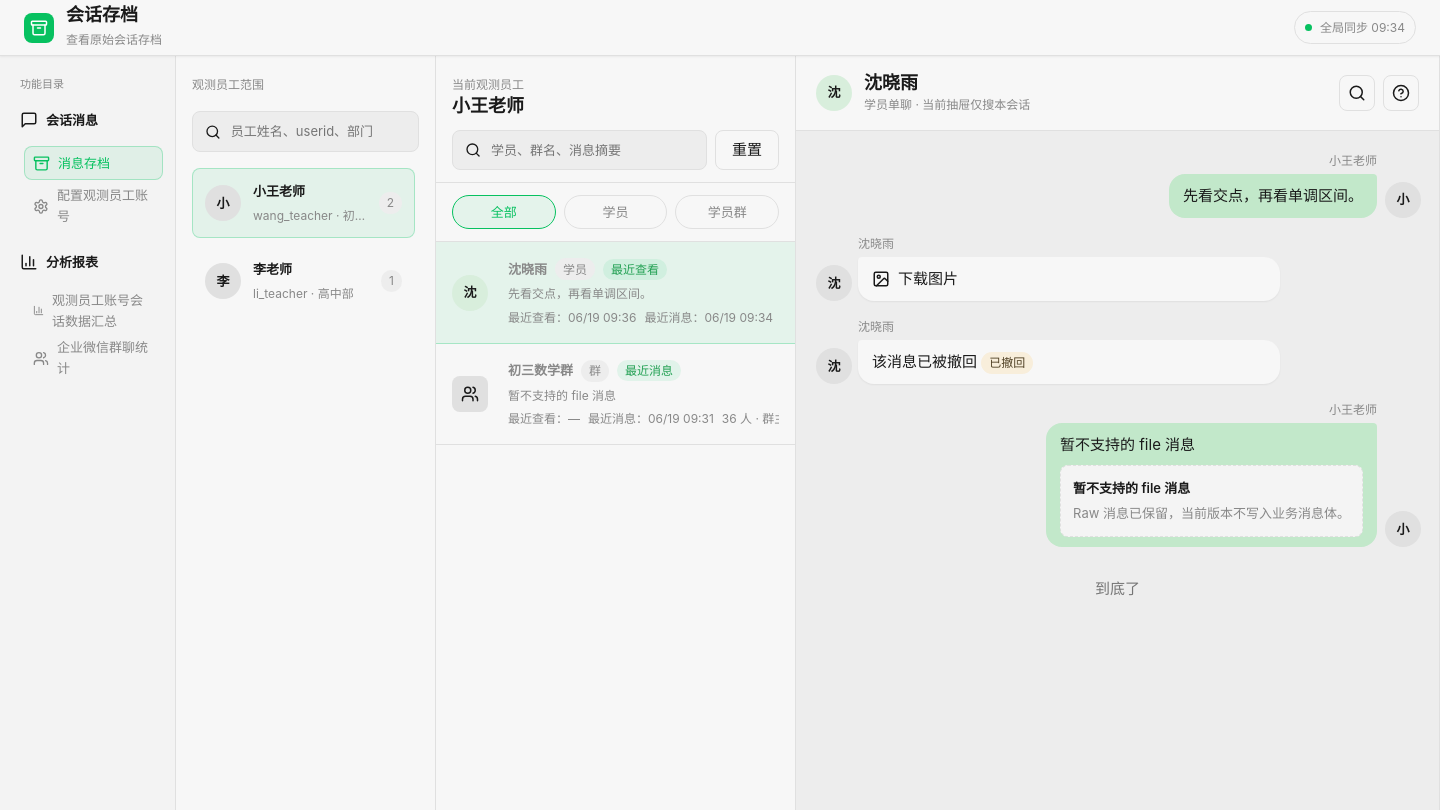
App › opens observation configuration panel
This screenshot has width=1440, height=810.
Click the button "配置观测员工账号".
click(94, 206)  # box [24,184,163,228]
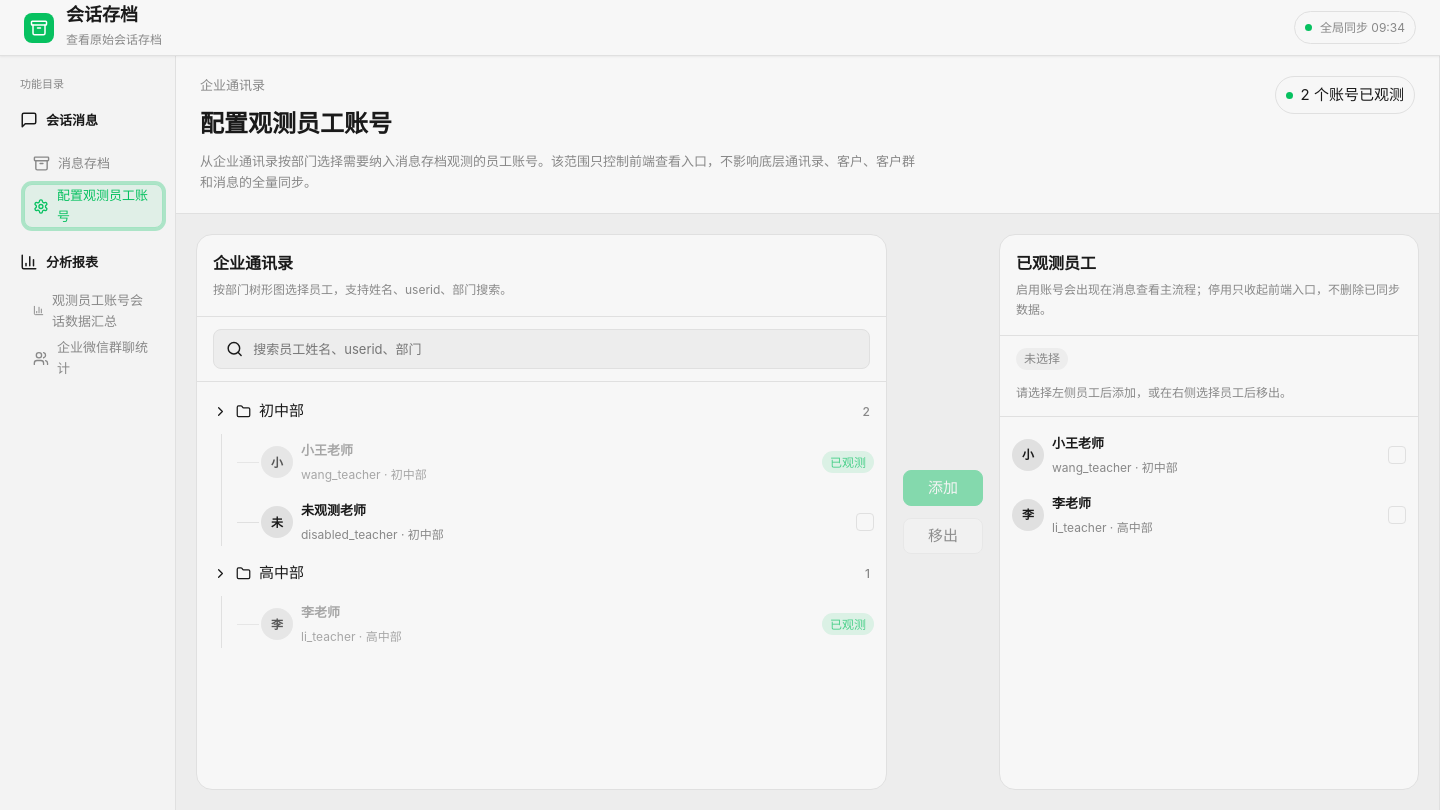
Expected: the heading "企业通讯录" is shown, [213,253,293,273]
Expected: the heading "已观测员工" is shown, [1016,253,1096,273]
Expected: the button "添加" is disabled, [903,470,983,506]
